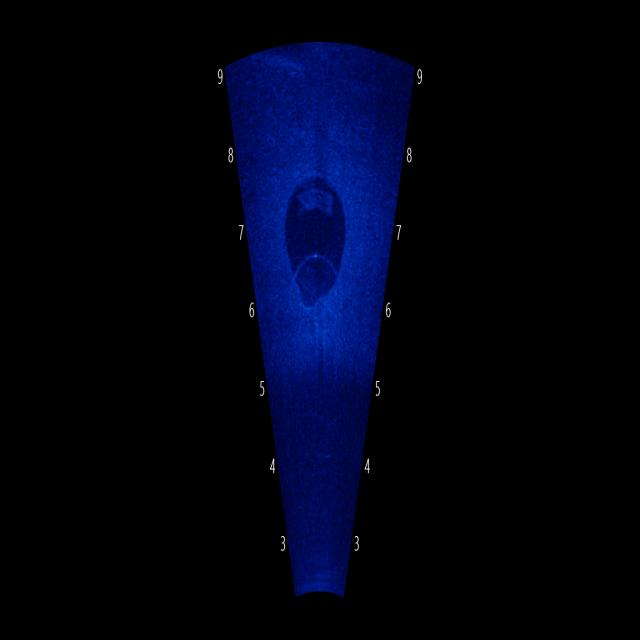circle: (274, 163, 357, 319)
